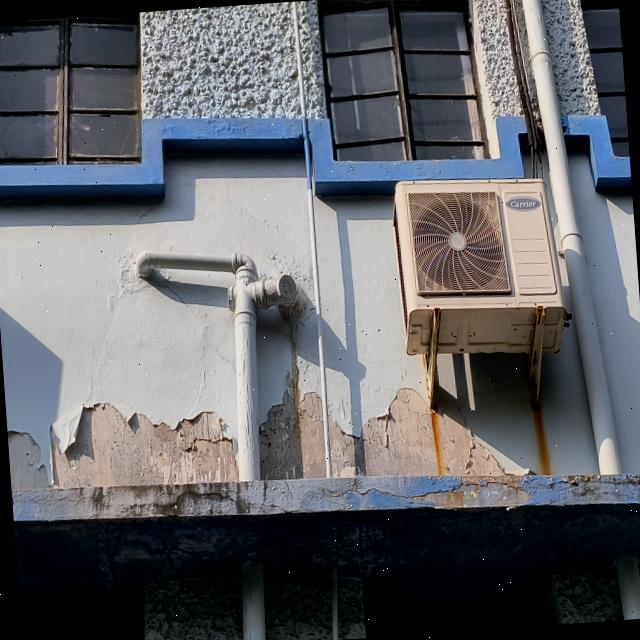crack: (316, 478, 535, 502), (118, 485, 241, 514)
peeling: (52, 403, 237, 487), (328, 389, 504, 477), (360, 474, 640, 510), (259, 392, 324, 479), (7, 430, 49, 492)
stain_mould: (45, 482, 252, 520)
